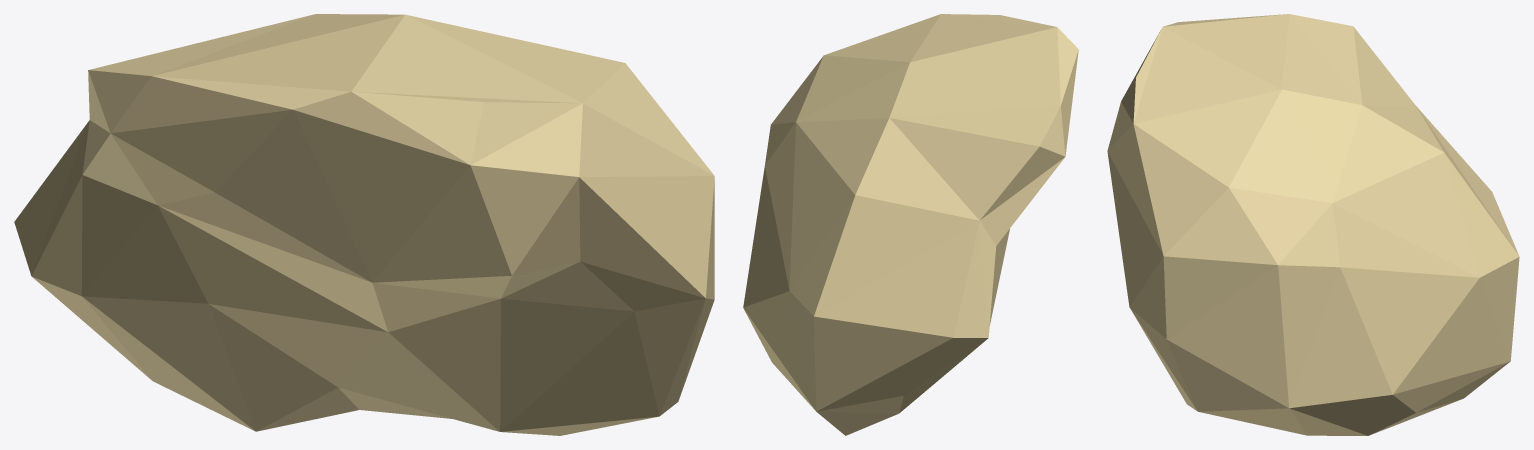
File: Rock (8).fbx
3 views of the same model, side by side, from view 1: azimuth 30°, elevation 25°; view 2: azimuth 150°, elevation 25°; view 3: azimuth 270°, elevation 25° (orthographic). The views are drawn at different scales.
Parts seen in each view (by area): view 1: Asteroid7; view 2: Asteroid7; view 3: Asteroid7.
Part boxes in pixels (bbox=[...]): Asteroid7: bbox=[14, 14, 714, 435]; Asteroid7: bbox=[743, 14, 1078, 435]; Asteroid7: bbox=[1107, 14, 1519, 435].
Bounding box in the file's own units: 183 × 175 × 195.
